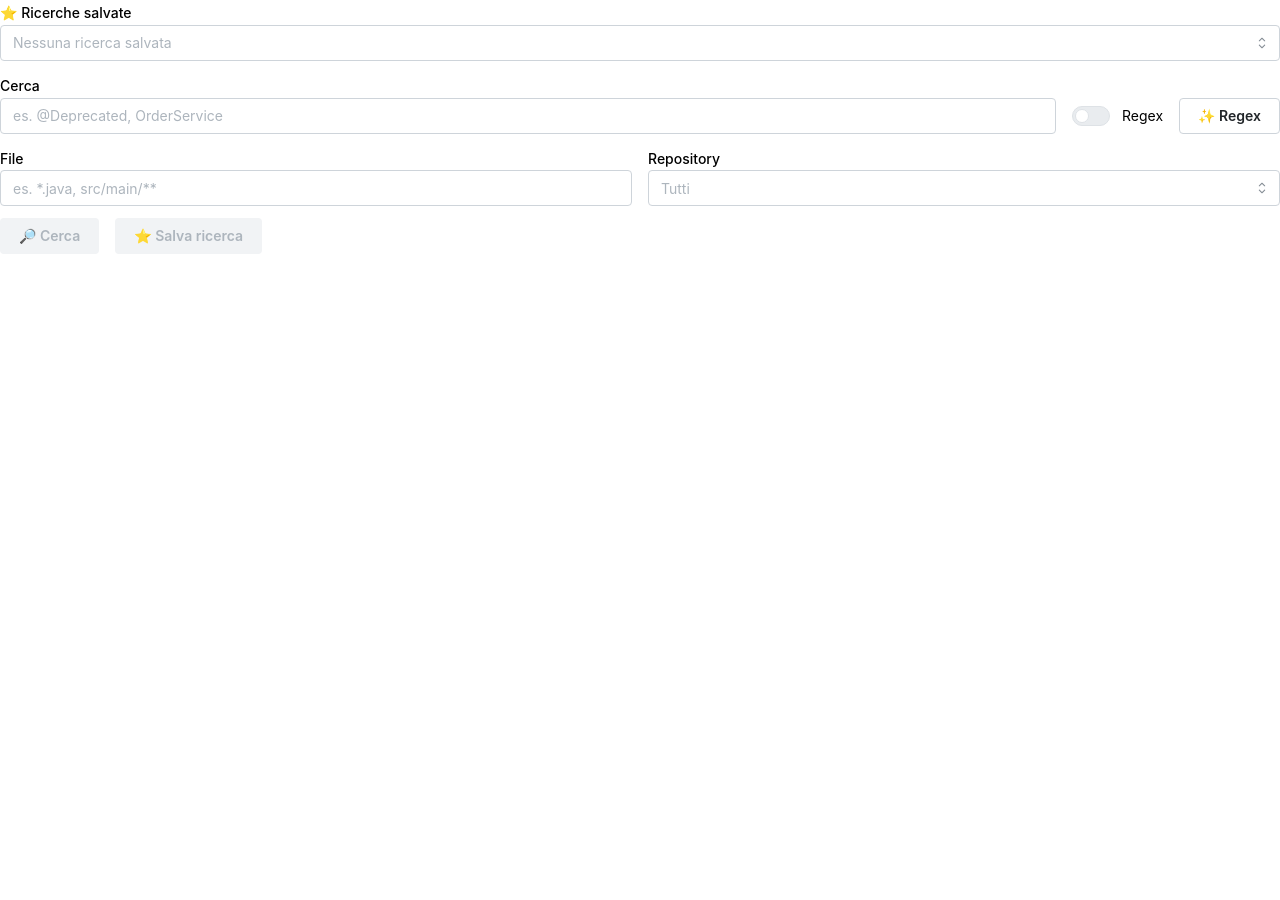
Test: Ricerche salvate › «✨ Regex» asks the agent and «Usa» puts the regex in the search
Click the button "✨ Regex": (1230, 116) x1=1179 y1=98 x2=1279 y2=134
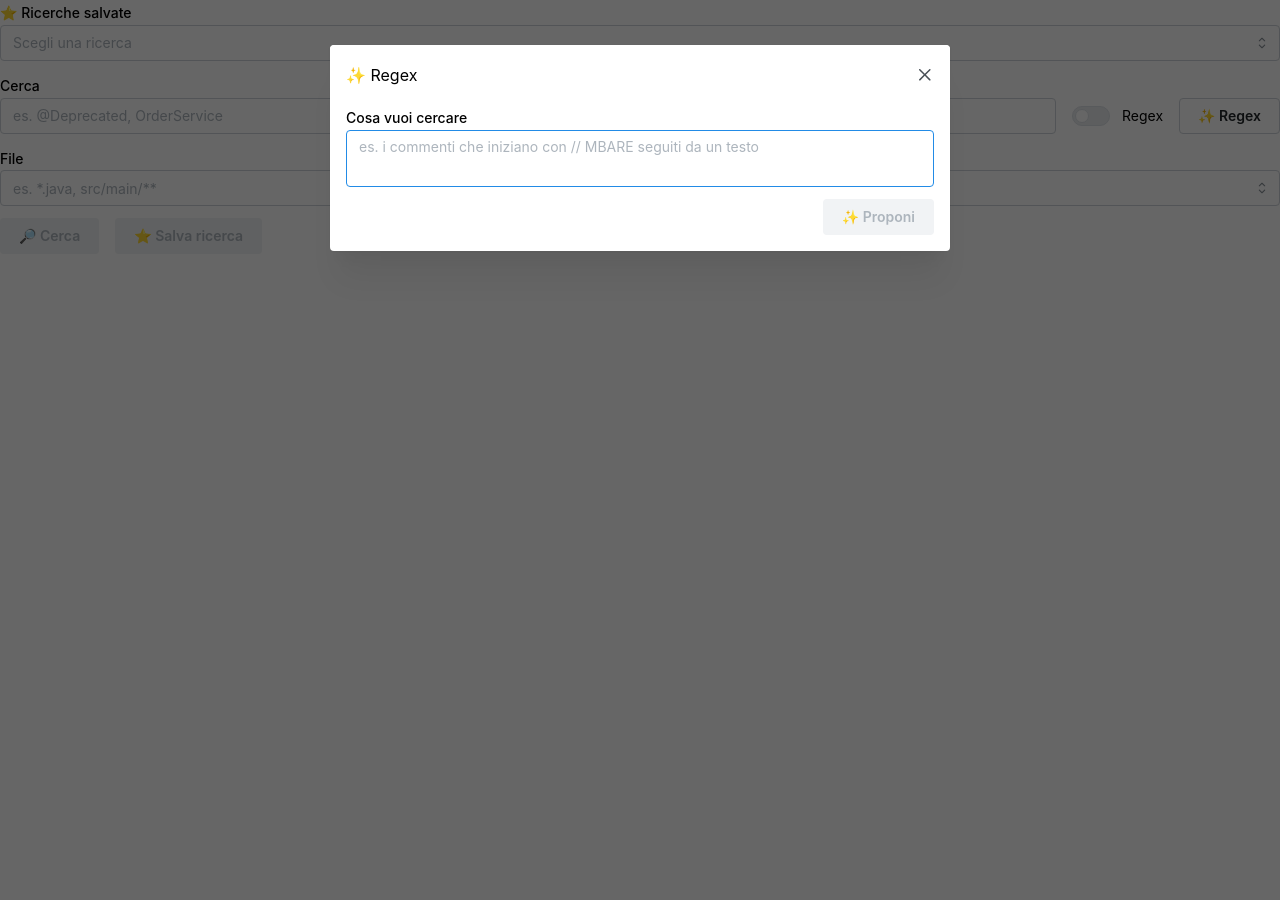
In the text box labelled "Cosa vuoi cercare": (640, 158) x1=346 y1=130 x2=934 y2=187, type "i commenti MBARE"
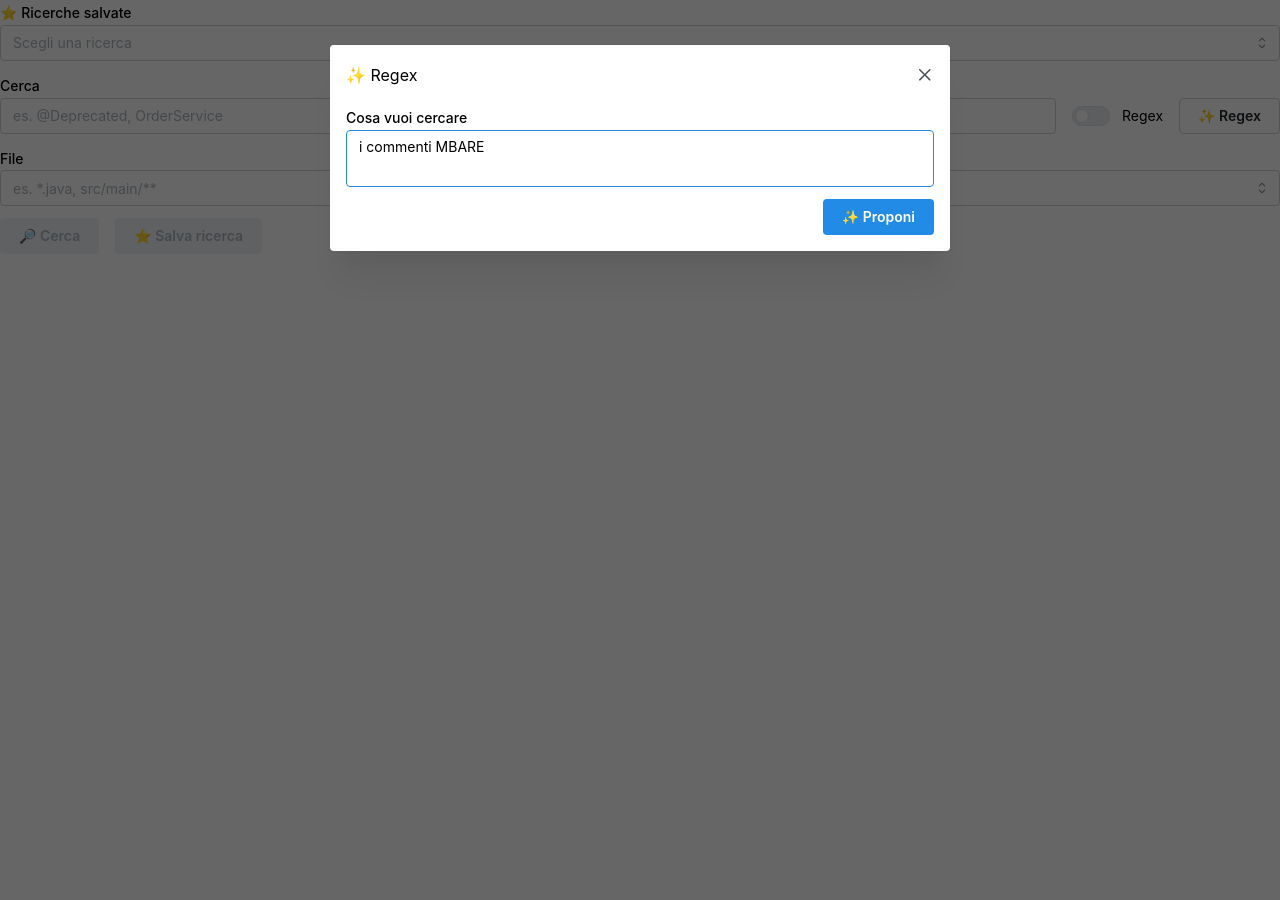
Click the button "✨ Proponi": (878, 217) x1=823 y1=199 x2=934 y2=235
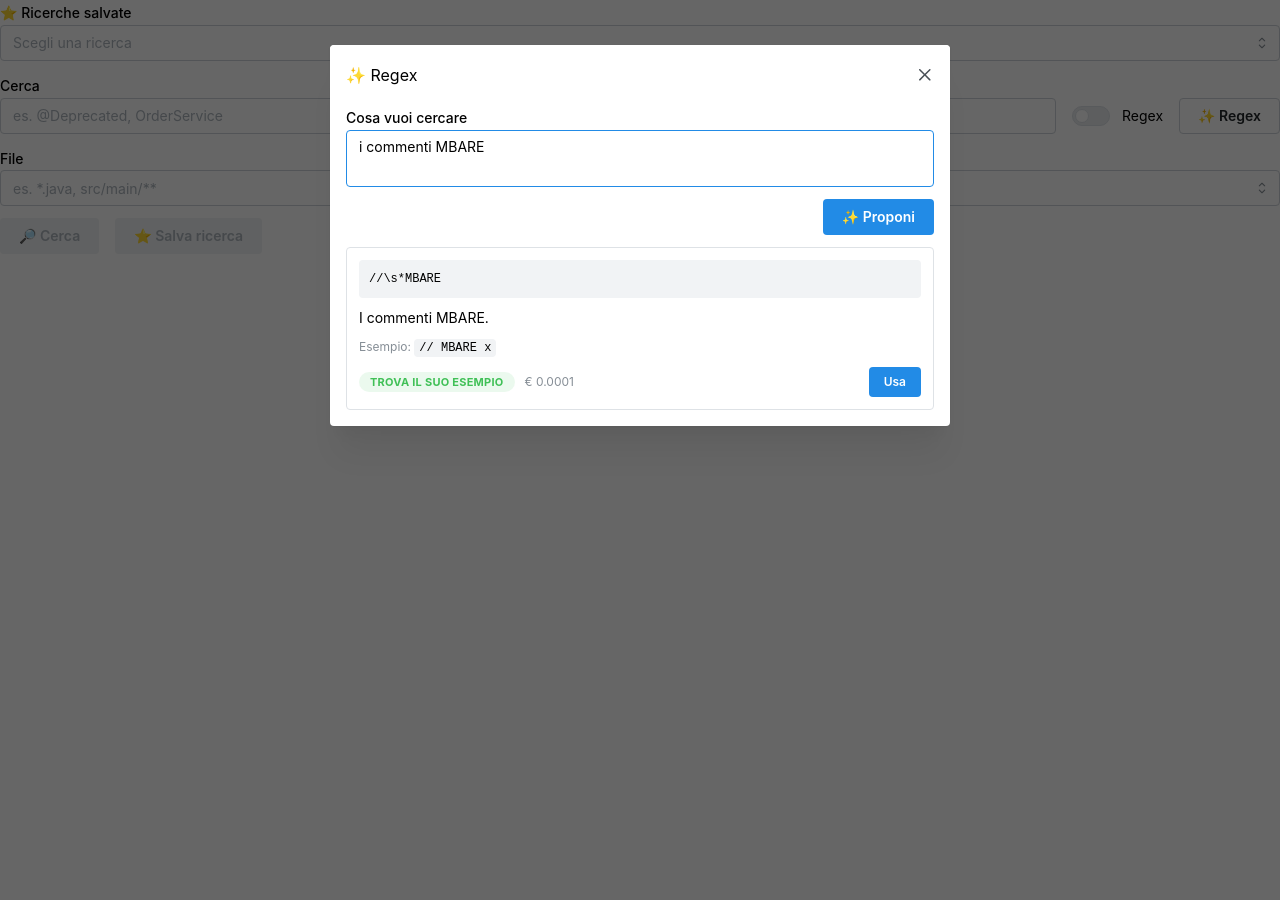
Now the text "trova il suo esempio" is shown, box x1=370 y1=373 x2=504 y2=391
Click the button "Usa": (895, 382) x1=869 y1=367 x2=921 y2=397
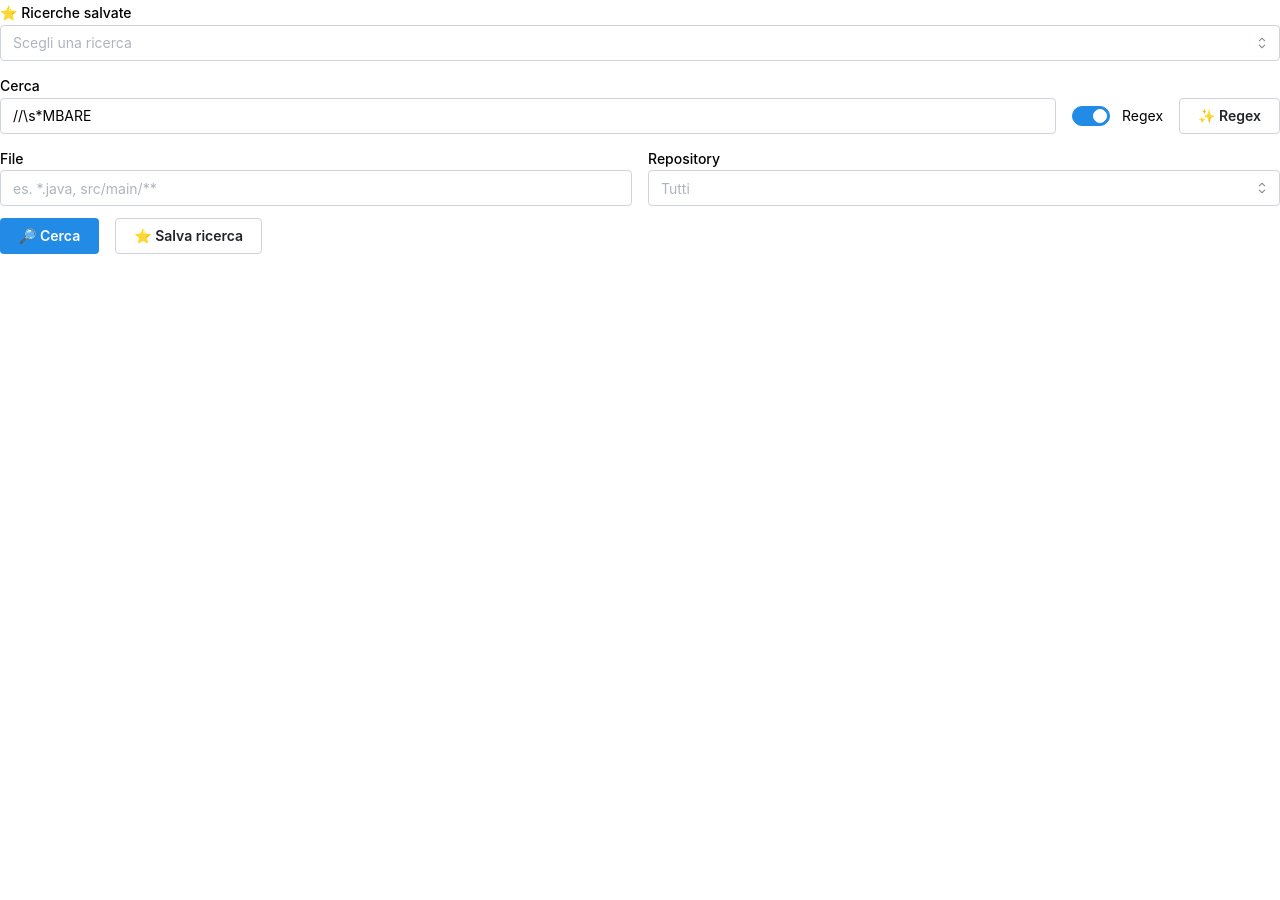
Now the field labelled "Cerca" holds "//\\s*MBARE", box x1=0 y1=98 x2=1056 y2=134
Now the switch labelled "Regex" is checked, box x1=1072 y1=106 x2=1163 y2=126
